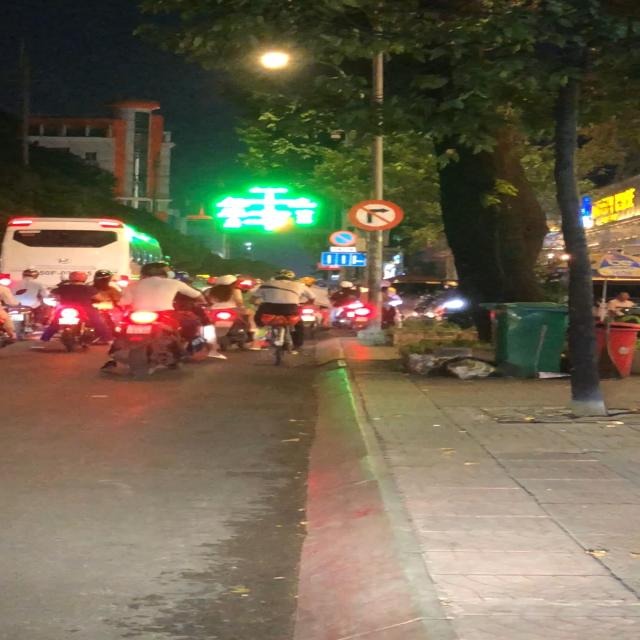Bien bao cam do xe: (328, 229, 358, 247)
Bien bao cam re phai: (349, 199, 405, 231)
